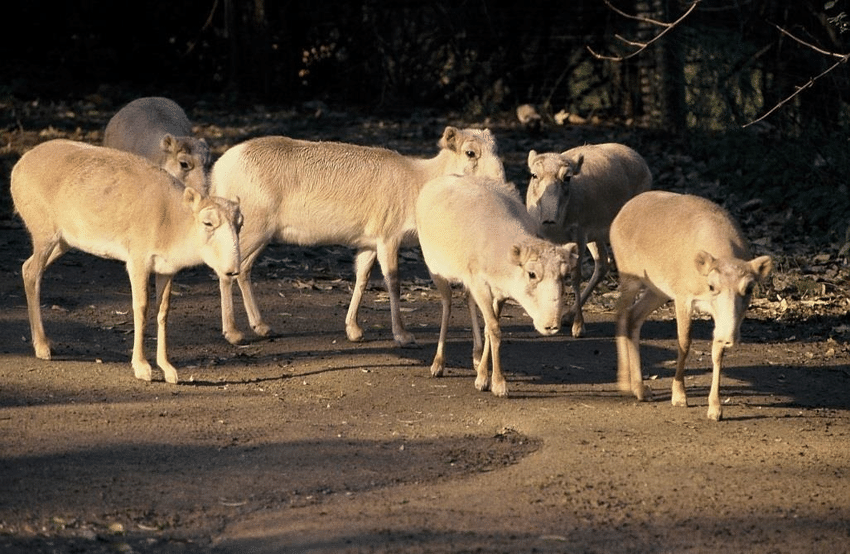saiga: (208, 123, 507, 358), (11, 133, 242, 387), (608, 187, 774, 426), (415, 170, 575, 399), (525, 140, 655, 328)
